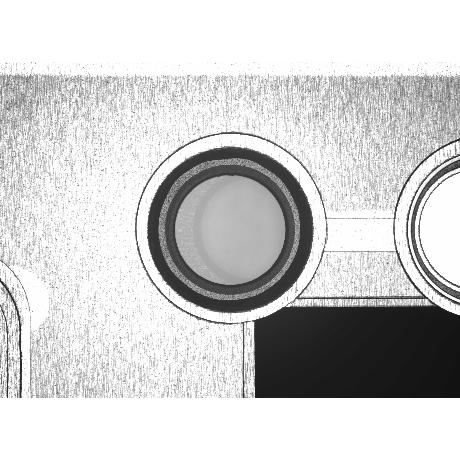Hole: (148, 147, 314, 313)
Hole2: (161, 158, 301, 302)
Hole3: (167, 166, 294, 294)
Hole4: (178, 175, 286, 285)
